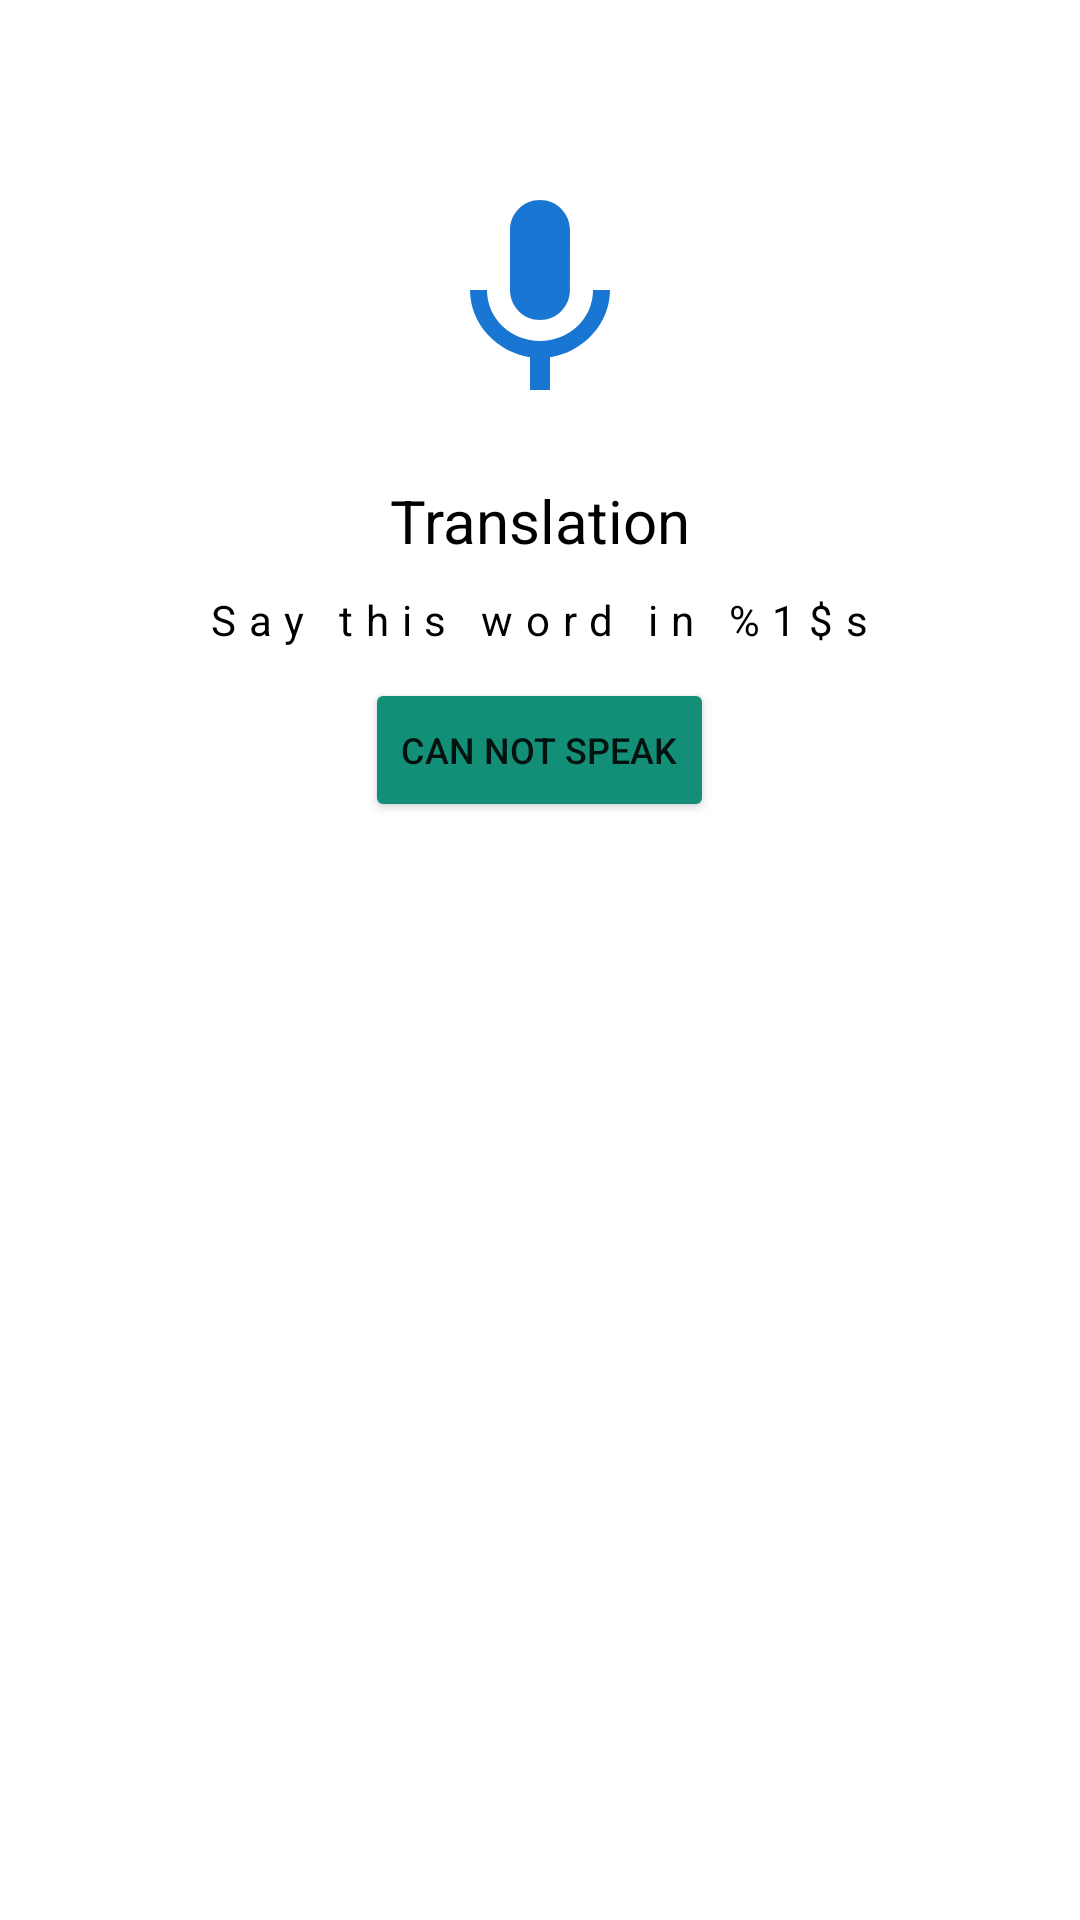

Icons on this 1080px x 1920px Android screen, each with its box as (x1, y1, x2, y2):
mic: (470, 200, 610, 390)
